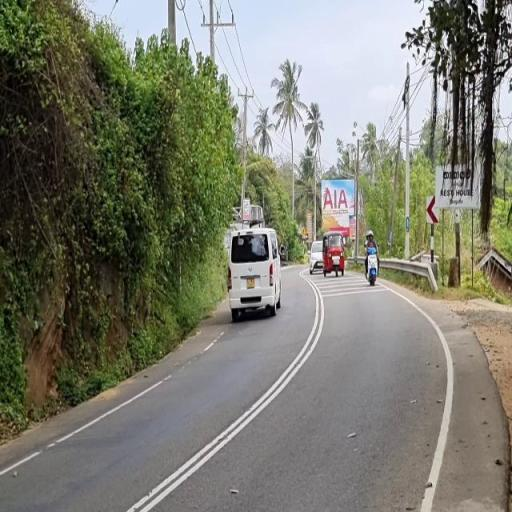double_white_line: (126, 280, 326, 511)
